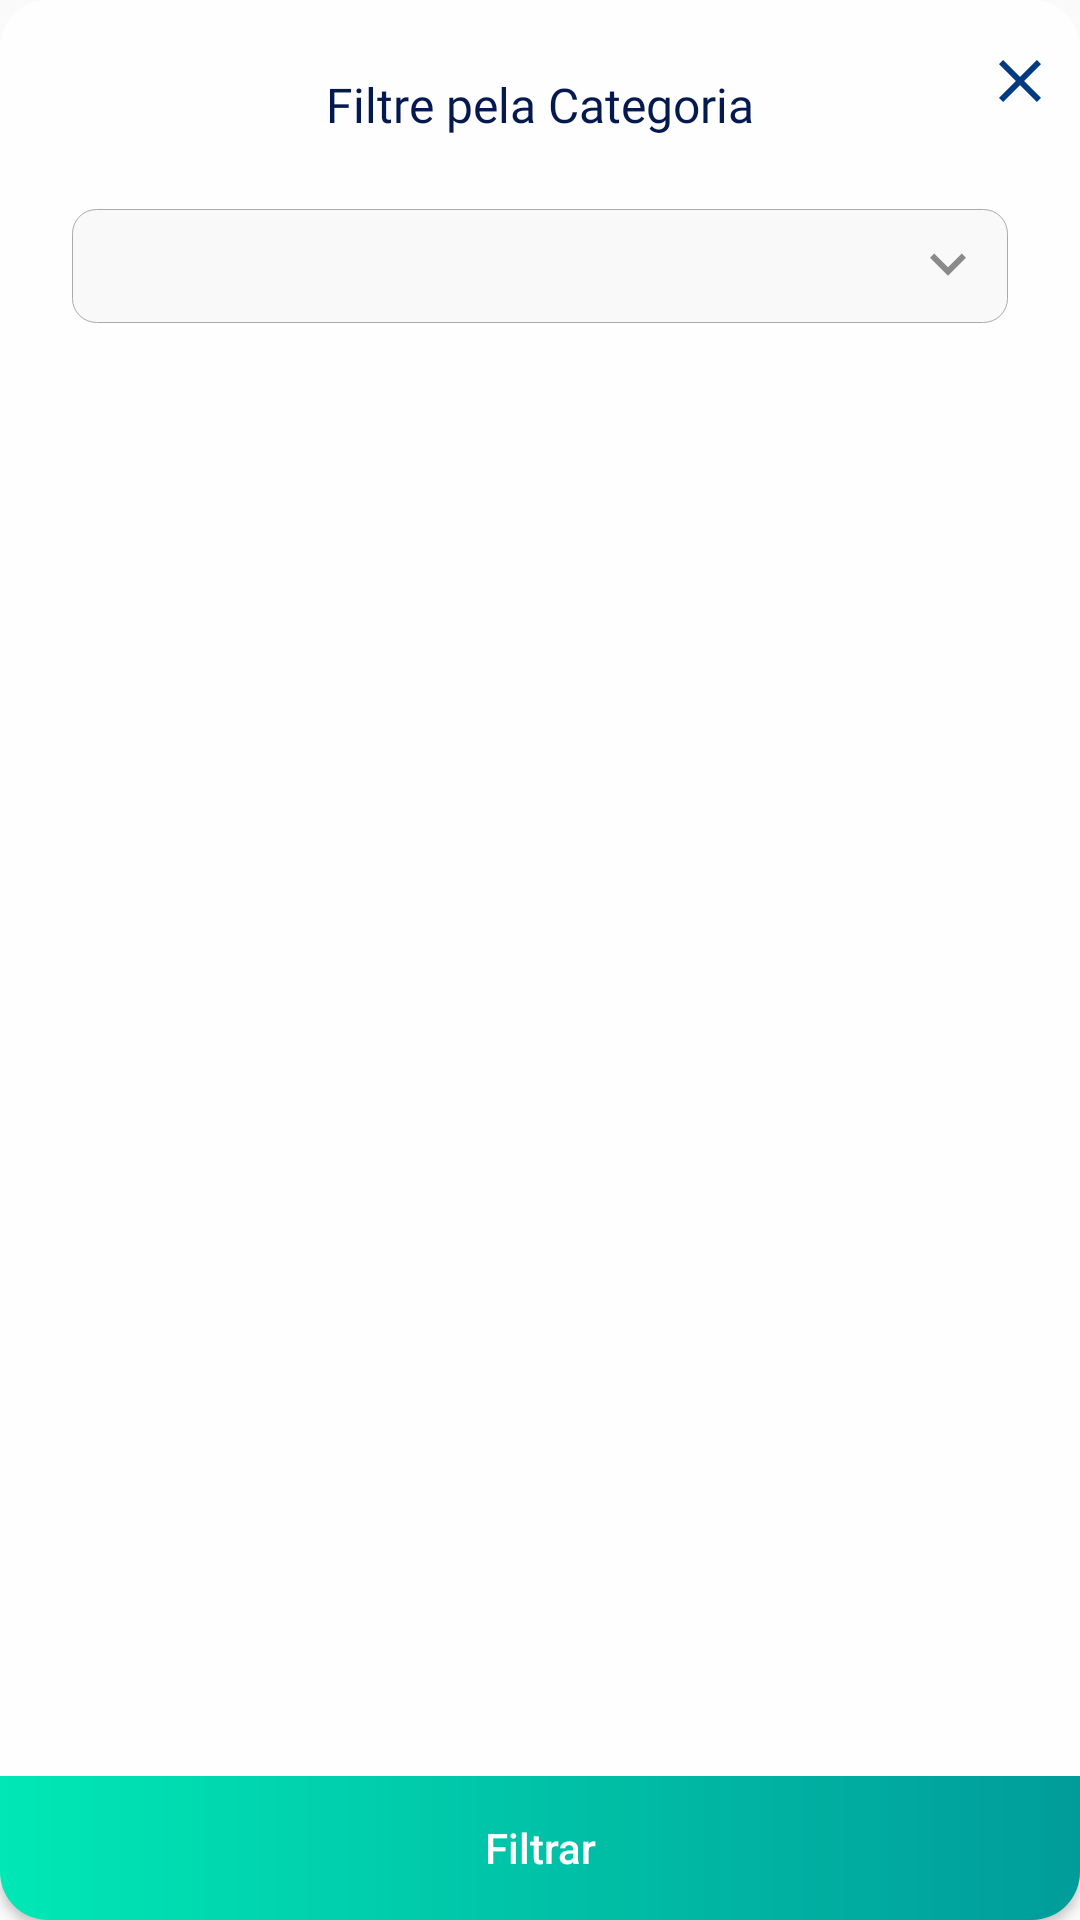

Named icons in this screenshot (1080×1920) and their centers, [x,y]:
close: [1020,81]
